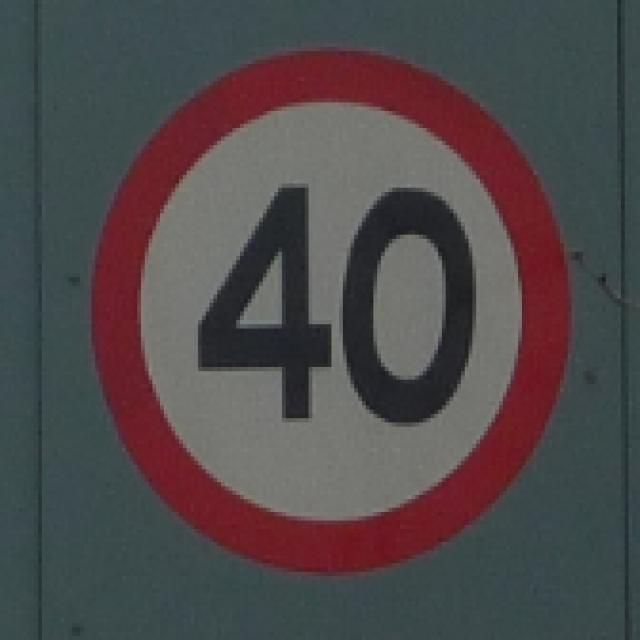Speed: (84, 52, 586, 586)
